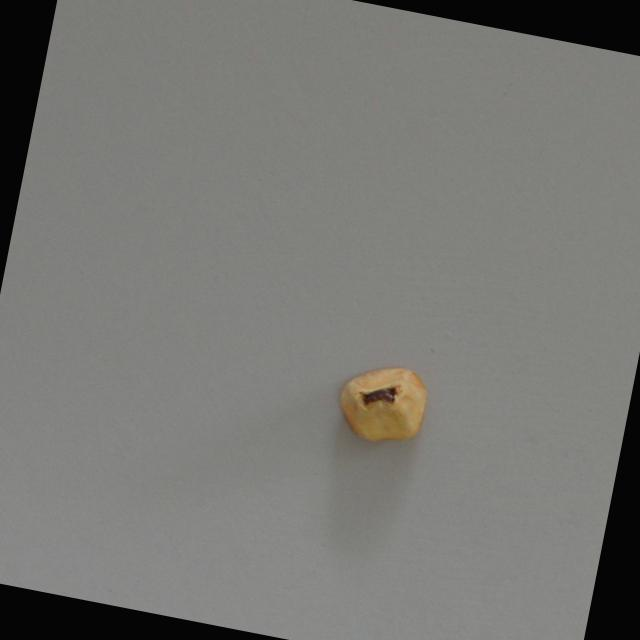dañado: (312, 345, 451, 463)
